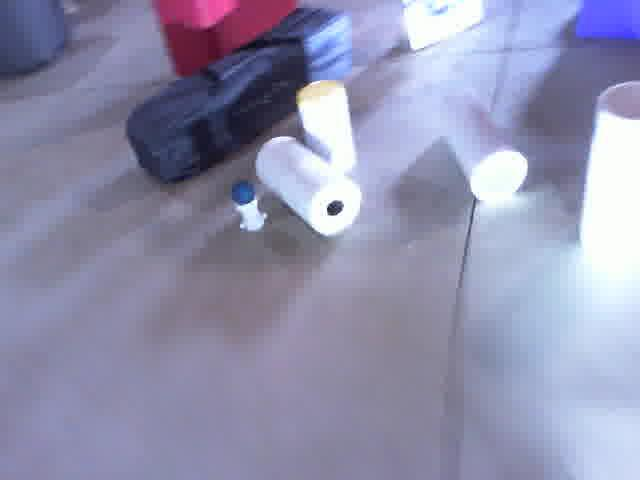coral: (430, 84, 533, 205), (578, 76, 640, 275)
